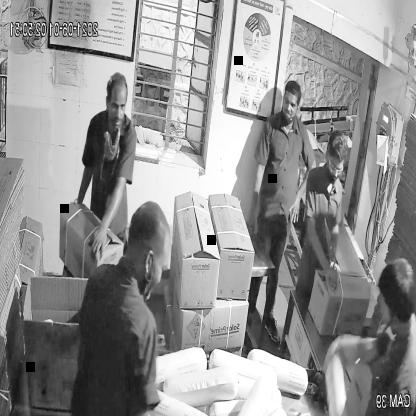goggles: (321, 153, 347, 181)
no_goggles: (105, 95, 130, 119), (280, 95, 301, 113)
